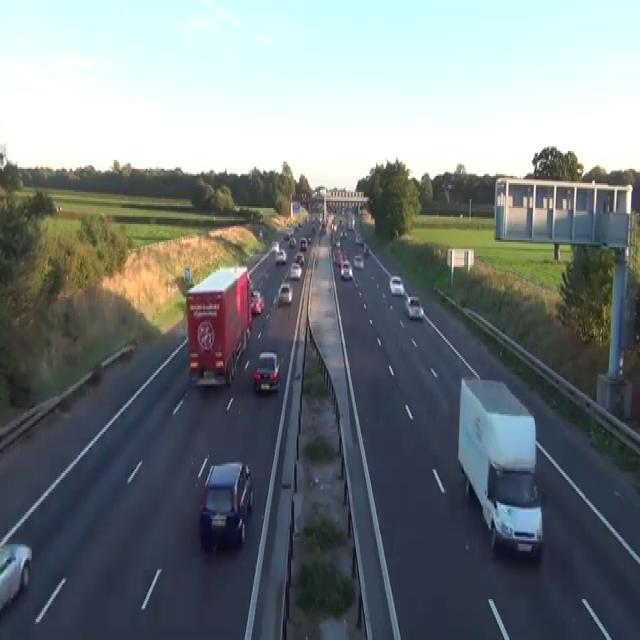Car: (281, 489, 366, 638), (198, 460, 253, 550), (0, 542, 32, 617), (253, 350, 281, 393), (404, 295, 424, 318), (250, 290, 264, 314), (278, 283, 292, 304), (389, 276, 404, 295), (340, 260, 353, 279), (91, 361, 102, 382), (289, 261, 301, 279), (275, 249, 287, 265), (354, 252, 364, 268), (333, 249, 343, 265), (122, 343, 134, 356), (0, 149, 7, 171), (294, 252, 304, 265), (299, 237, 307, 250), (52, 201, 62, 211), (271, 240, 279, 251), (363, 244, 370, 256), (289, 235, 296, 247), (300, 192, 307, 204), (355, 233, 363, 243), (248, 276, 252, 294), (55, 202, 62, 212), (310, 224, 315, 235), (283, 231, 289, 240), (258, 228, 263, 238), (331, 221, 336, 231), (340, 230, 347, 237), (307, 234, 311, 243), (335, 240, 340, 247), (297, 222, 302, 228)
Truck: (457, 375, 543, 558), (185, 265, 252, 386)
